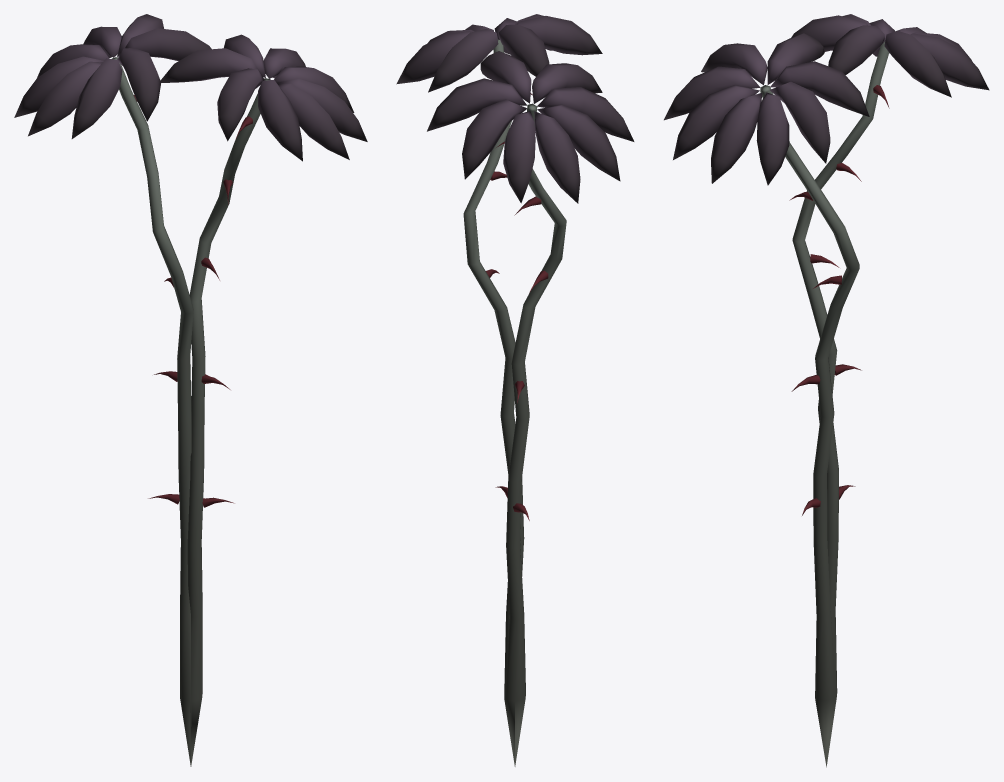
Rendered from plants-flowers-thorny-purple-flower_v1.glb.
3 views of the same model, side by side, from view 1: azimuth 30°, elevation 25°; view 2: azimuth 150°, elevation 25°; view 3: azimuth 270°, elevation 25° (orthographic).
Visible parts, largest first — view 1: Thorny Purple Flower_v1; view 2: Thorny Purple Flower_v1; view 3: Thorny Purple Flower_v1.
Boxes of the visible parts, box(x1,y1,x2,y2) form: Thorny Purple Flower_v1: box(14, 14, 367, 766); Thorny Purple Flower_v1: box(396, 14, 634, 766); Thorny Purple Flower_v1: box(664, 14, 989, 767).
Bounding box in the file's own units: 0.2314 × 0.6 × 0.2413.
